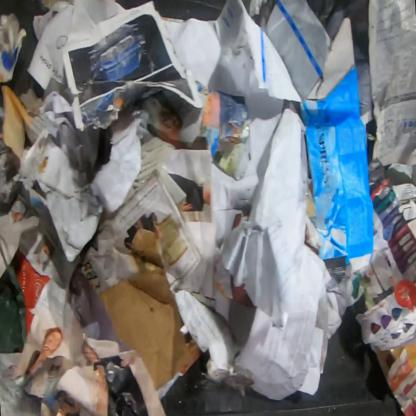cardboard: (300, 16, 374, 275), (98, 218, 204, 392), (0, 12, 28, 84)
soft_plastic: (50, 208, 140, 293), (68, 268, 133, 352)
